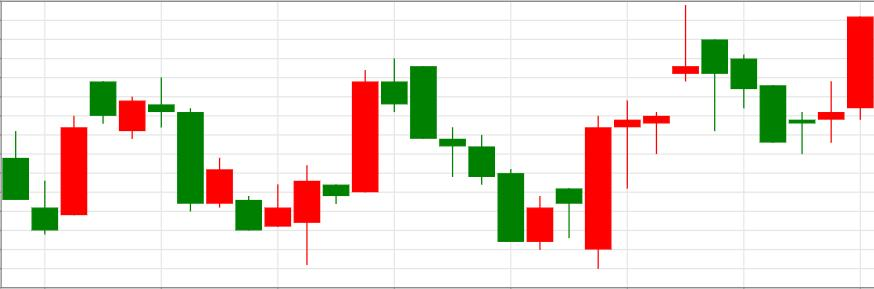hanging_man_fall: (585, 4, 729, 269)
